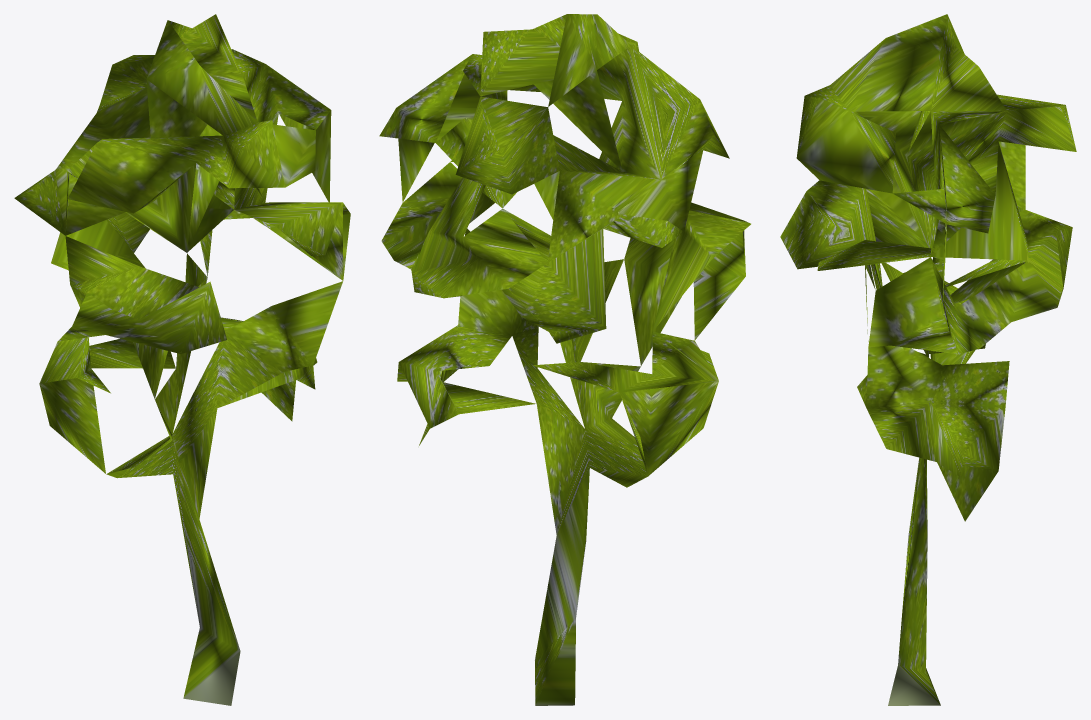
The model's file is tree-birch-lod.glb.
3 views of the same model, side by side, from view 1: azimuth 30°, elevation 25°; view 2: azimuth 150°, elevation 25°; view 3: azimuth 270°, elevation 25° (orthographic). The views are drawn at different scales.
Visible parts, largest first — view 1: tree-birch-lod; view 2: tree-birch-lod; view 3: tree-birch-lod.
Boxes of the visible parts, <box> form: tree-birch-lod: <box>14,14,350,705</box>; tree-birch-lod: <box>379,14,750,705</box>; tree-birch-lod: <box>780,14,1076,705</box>.
Bounding box in the file's own units: 4.28 × 8.9 × 3.54.
1 material, 1 textured.
